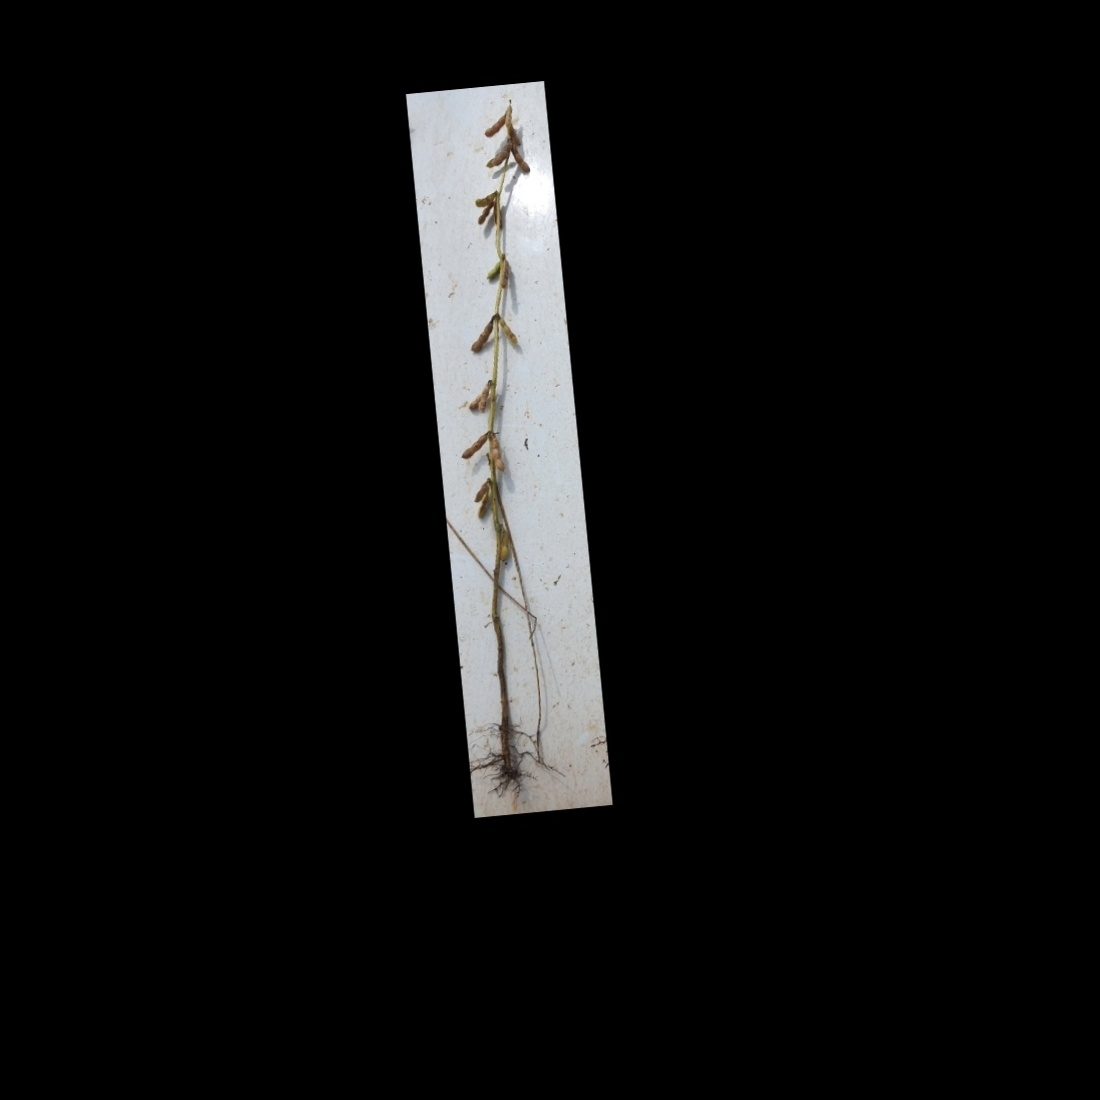pod: (466, 314, 498, 355), (457, 430, 490, 462), (492, 310, 518, 346), (485, 431, 506, 473), (510, 144, 532, 175), (482, 111, 506, 137), (497, 525, 512, 563), (482, 256, 504, 279), (474, 202, 495, 227), (498, 259, 510, 290)
soy: (411, 96, 599, 794)
